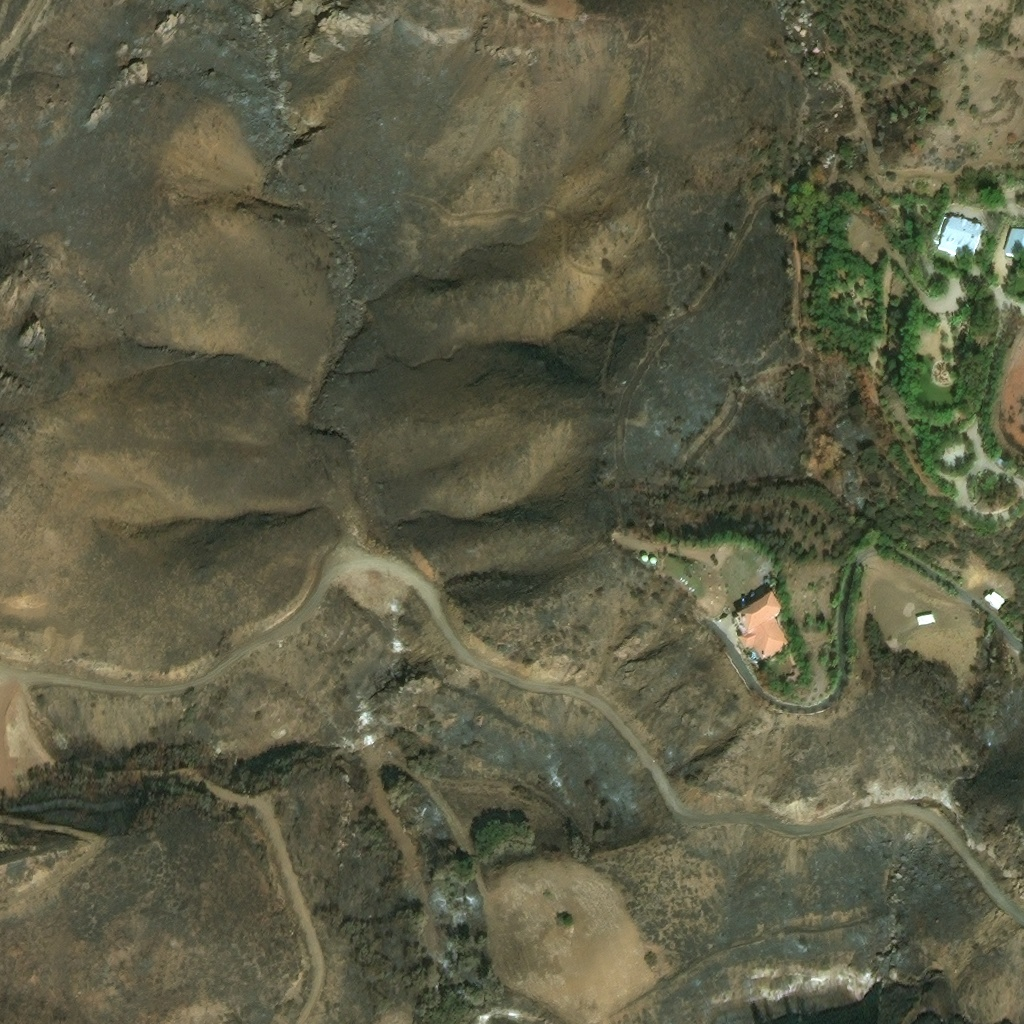0 no-damage: (736, 596, 791, 664), (932, 216, 983, 262), (1004, 229, 1023, 259), (984, 592, 1006, 611), (916, 616, 935, 629), (640, 557, 649, 565), (649, 560, 658, 567)
4 un-classified: (888, 606, 893, 611), (893, 605, 898, 610)
